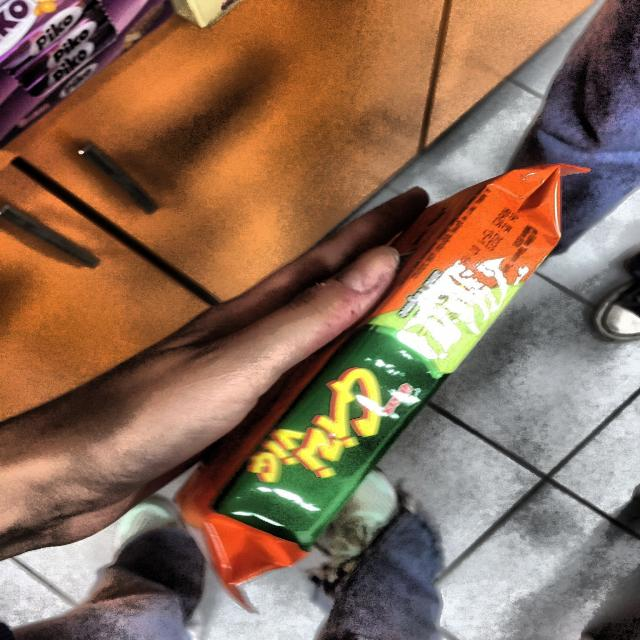Plastic: (178, 138, 591, 590)
